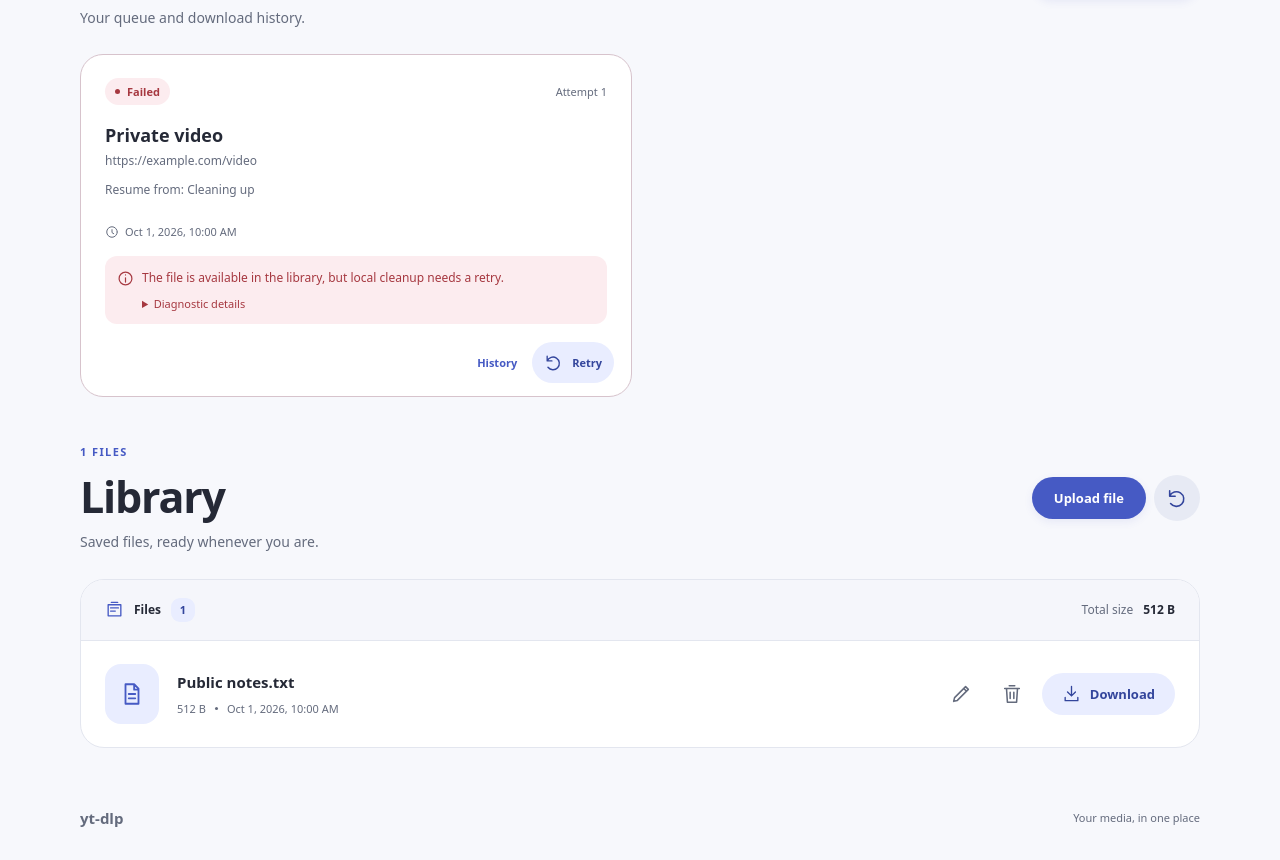
Scenario: library and SSO workspace › distinguishes queued own deletion from confirmed external deletion (queued=true)
(page scrolled)
Click the button named "Delete: Public notes.txt". click: (1012, 694)
box: x1=991 y1=673 x2=1033 y2=715
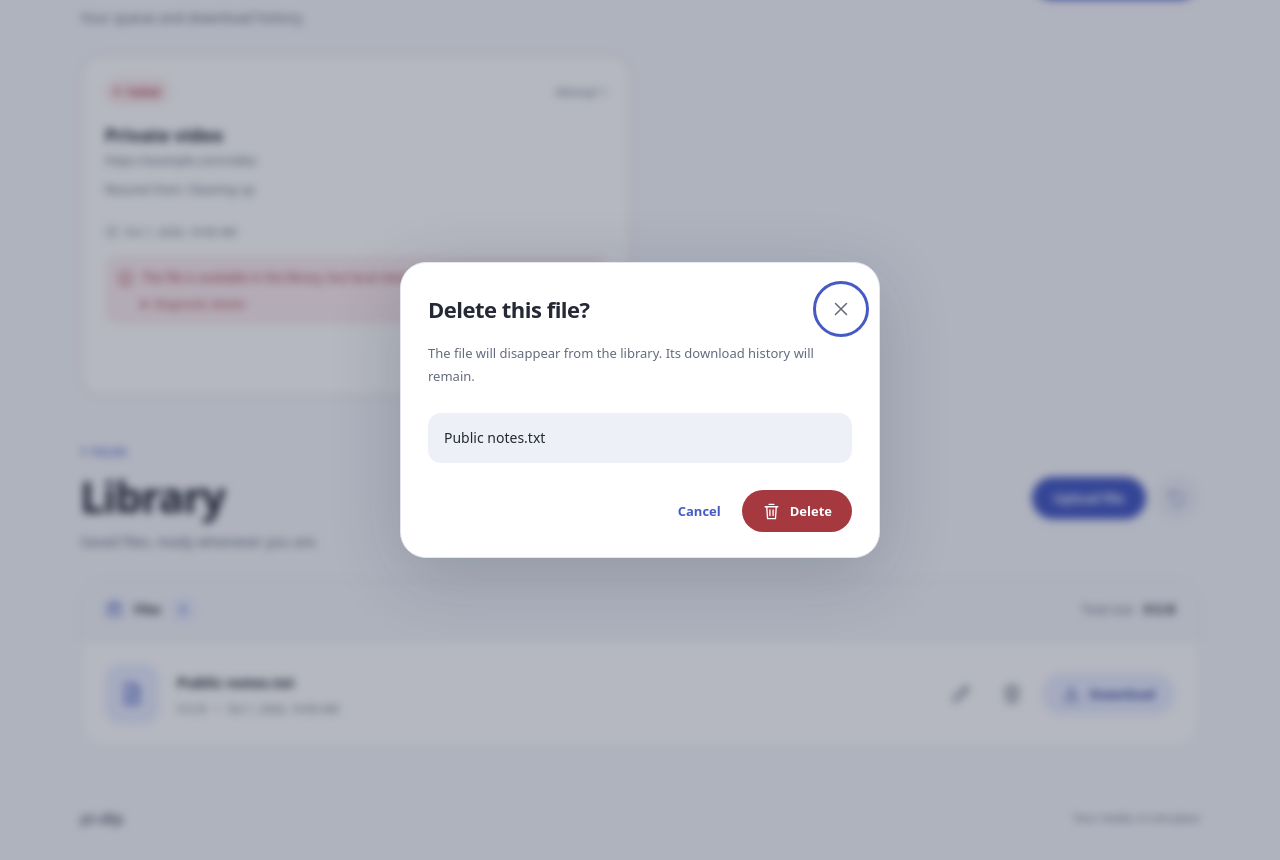
Click the button "Delete". click: (797, 511)
box: x1=742 y1=490 x2=852 y2=532
(page scrolled)
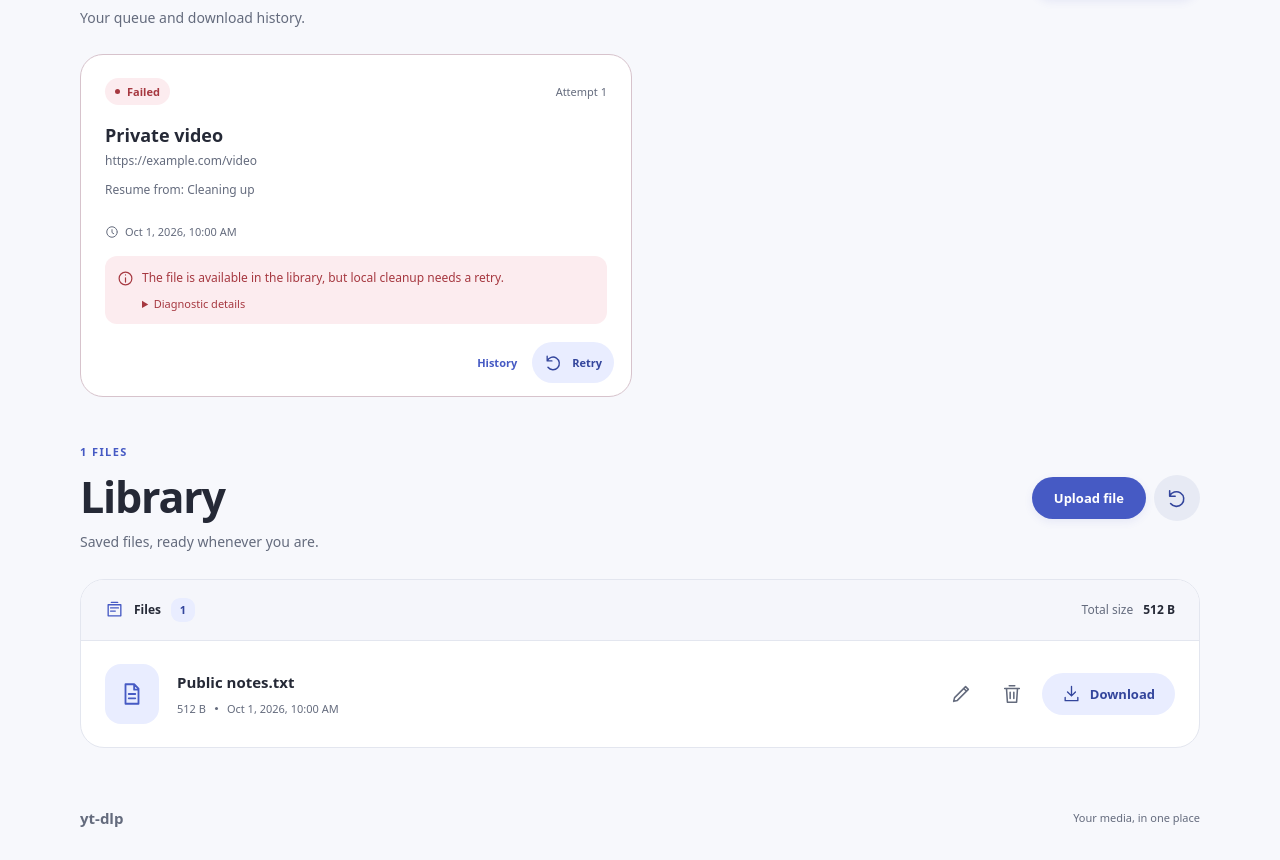
Expected: the heading "Public notes.txt" is shown, x1=177 y1=672 x2=294 y2=692
Now the dialog is gone
Now the button named "Refresh" is enabled
Click the button named "Refresh". click: (1177, 498)
box: x1=1154 y1=475 x2=1200 y2=521
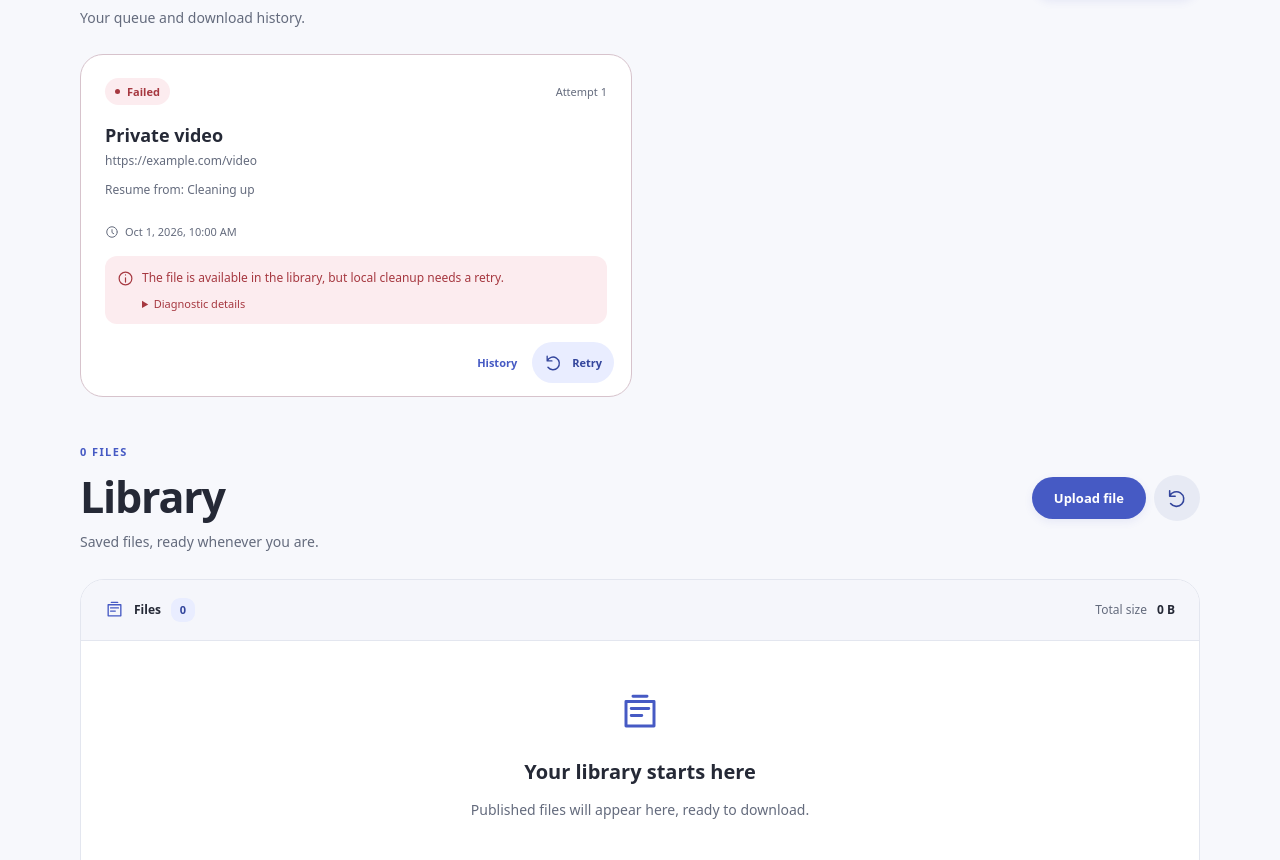
Now the heading "Public notes.txt" is gone
